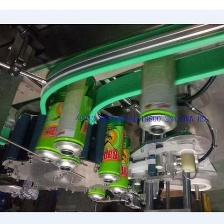aerosol_cans: (52, 73, 100, 158), (137, 47, 180, 137), (31, 77, 73, 166), (52, 83, 86, 173), (95, 112, 128, 187), (104, 120, 132, 197), (86, 144, 107, 204)
